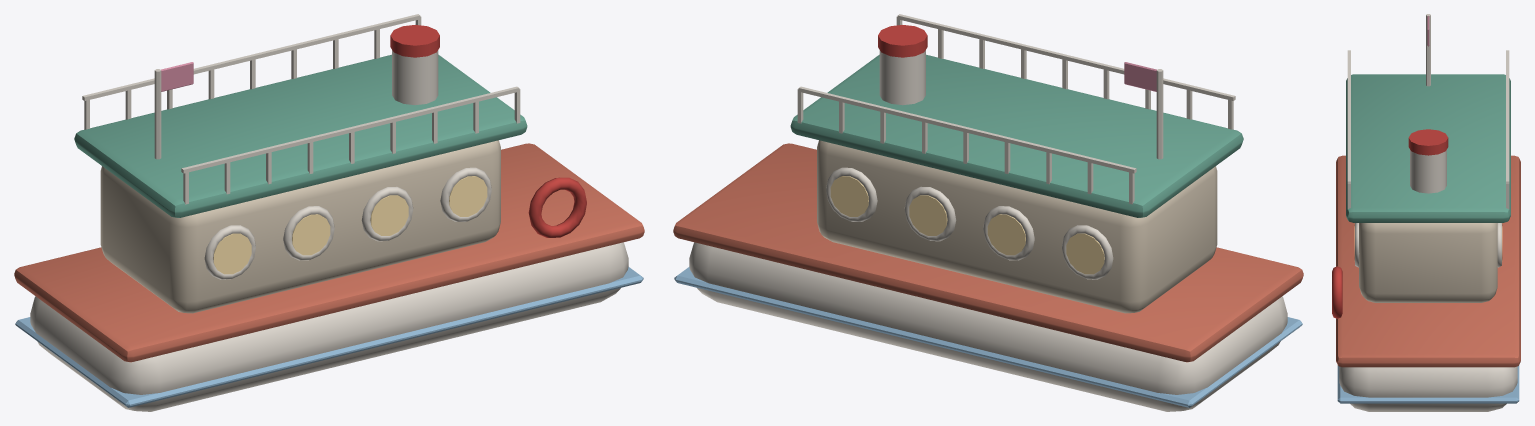
Rendered from ac_boat.glb.
3 views of the same model, side by side, from view 1: azimuth 30°, elevation 25°; view 2: azimuth 150°, elevation 25°; view 3: azimuth 270°, elevation 25° (orthographic). The views are drawn at different scales.
Parts seen in each view (by area): view 1: box; view 2: box; view 3: box.
Part boxes in pixels (bbox=[...]): box: bbox=[14, 14, 644, 411]; box: bbox=[673, 14, 1303, 411]; box: bbox=[1332, 14, 1520, 411].
Size of the model in its own units: 7.3 by 4 by 2.86.
